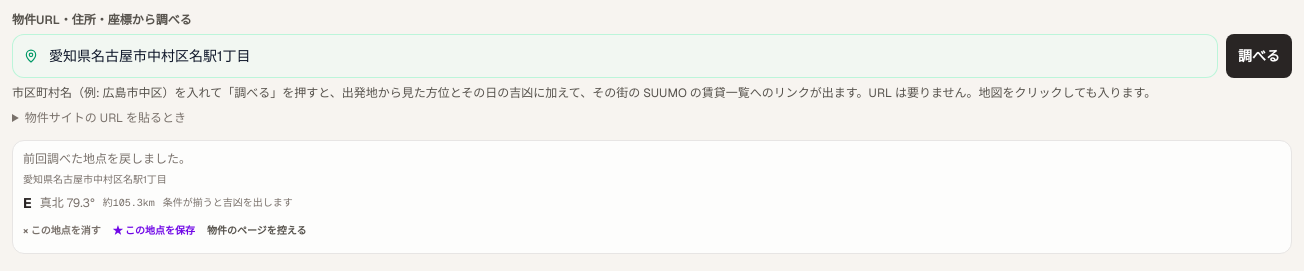
Test: 戻した地点の断りと「× この地点を消す」 › note を札の先頭に出し、消すと入力欄・札・断りが消えて頁に知らせる
Expected: the text "前回調べた地点を戻しました。" is shown, [23, 150, 191, 166]
Expected: the field labelled "物件URL・住所・座標から調べる" holds "愛知県名古屋市中村区名駅1丁目", [12, 34, 1218, 78]
Step 1. Click the button "× この地点を消す" → click(62, 231), box [23, 219, 101, 243]
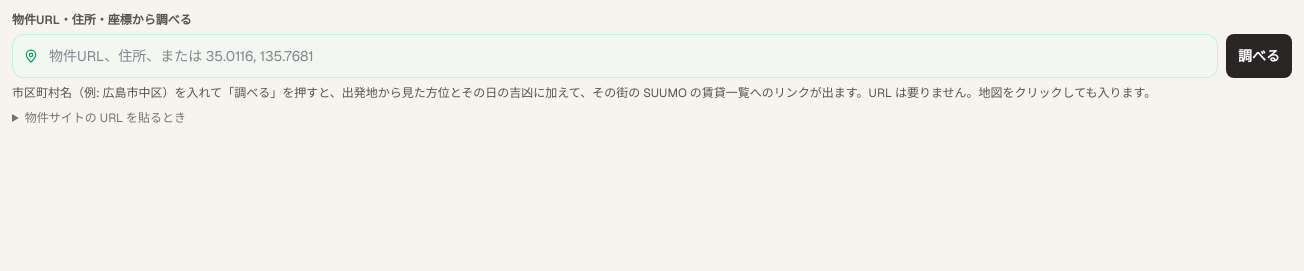
Now the field labelled "物件URL・住所・座標から調べる" is empty, box [12, 34, 1218, 78]
Now the text "前回調べた地点を戻しました。" is gone
